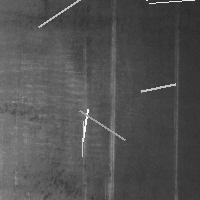scratches: (103, 15, 118, 197), (34, 0, 121, 31), (74, 105, 129, 144), (172, 33, 180, 198), (136, 79, 180, 96), (78, 104, 93, 146), (77, 116, 88, 161), (144, 0, 200, 8), (141, 0, 200, 5)
